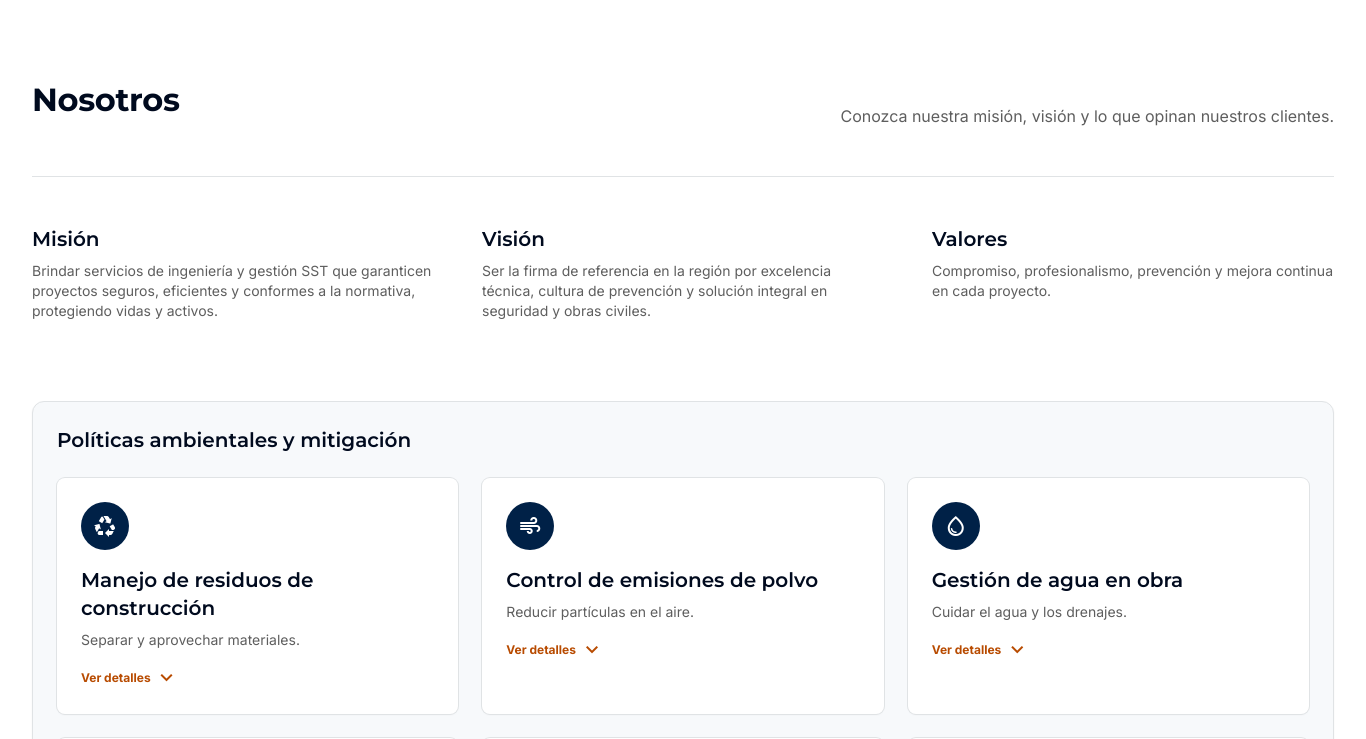
Test: About environmental policies › renders a concise, interactive local environmental policy catalog
Expected: the heading "Políticas ambientales y mitigación" is shown, [57,428,411,452]
Expected: the text "Clasificar los residuos de obra" is not shown
Click the button "Manejo de residuos de construcción".
click(105, 526)  # box [57,478,458,714]
(page scrolled)
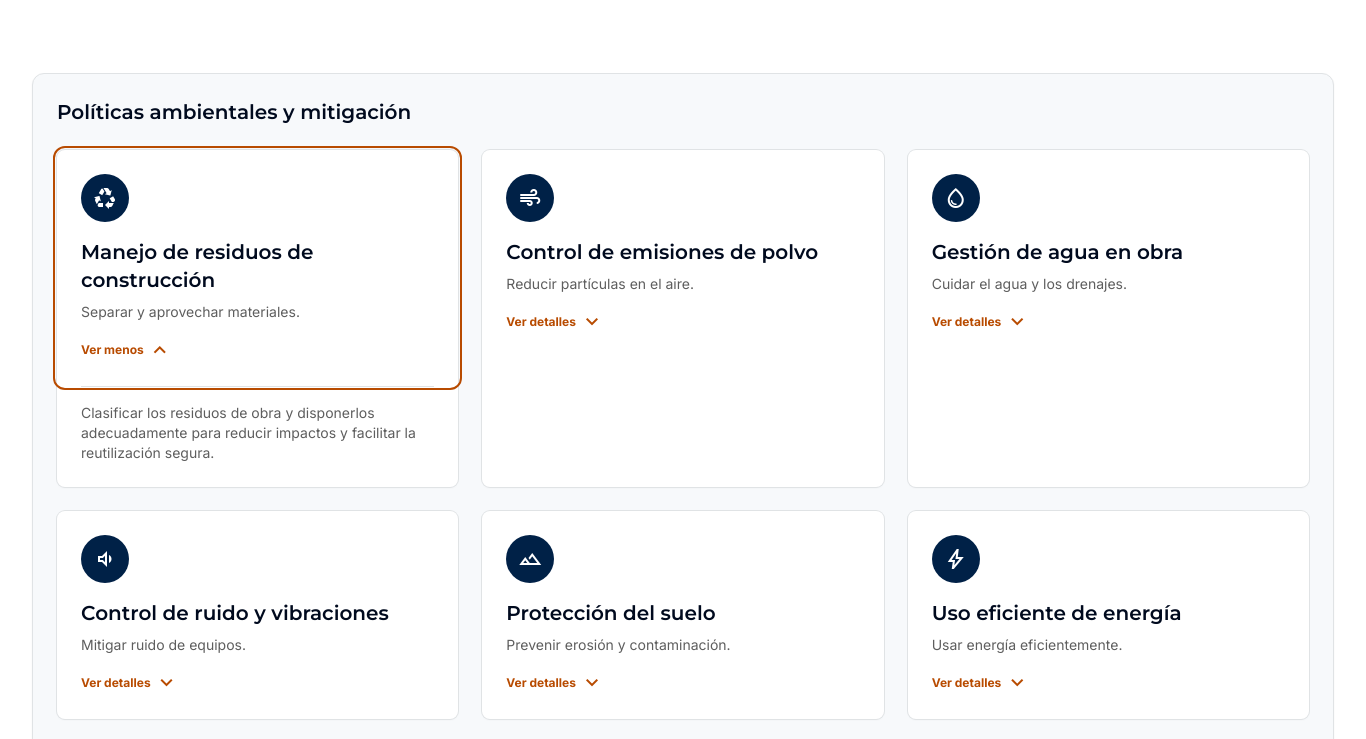
Now the button "Manejo de residuos de construcción" is expanded, box [57,150,458,386]
Now the text "Clasificar los residuos de obra" is shown, box [81,404,416,461]
